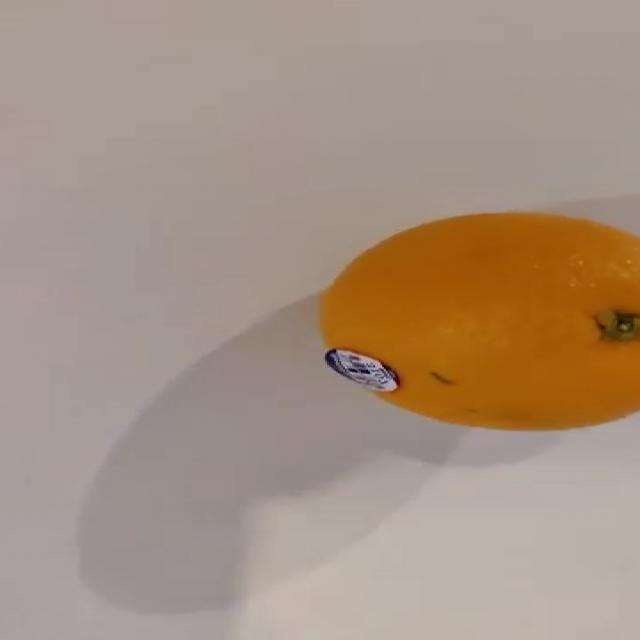Orange: (317, 209, 639, 432)
